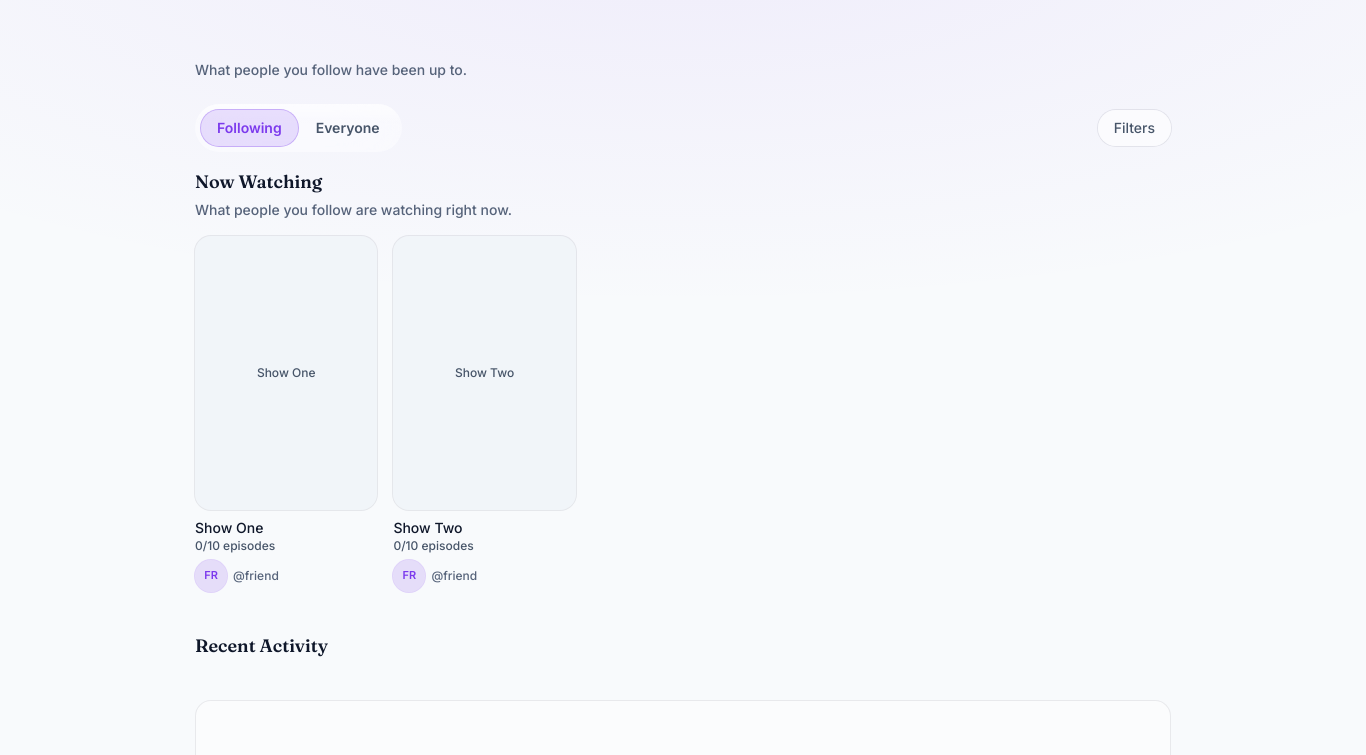
Activity › offers a genre section once show details resolve, and filters Now Watching (only) by the selected genre
Expected: the 1st text "Show Two" is shown, [455, 365, 514, 380]
Click the button "Filters".
click(1134, 128)  # box [1098, 110, 1171, 146]
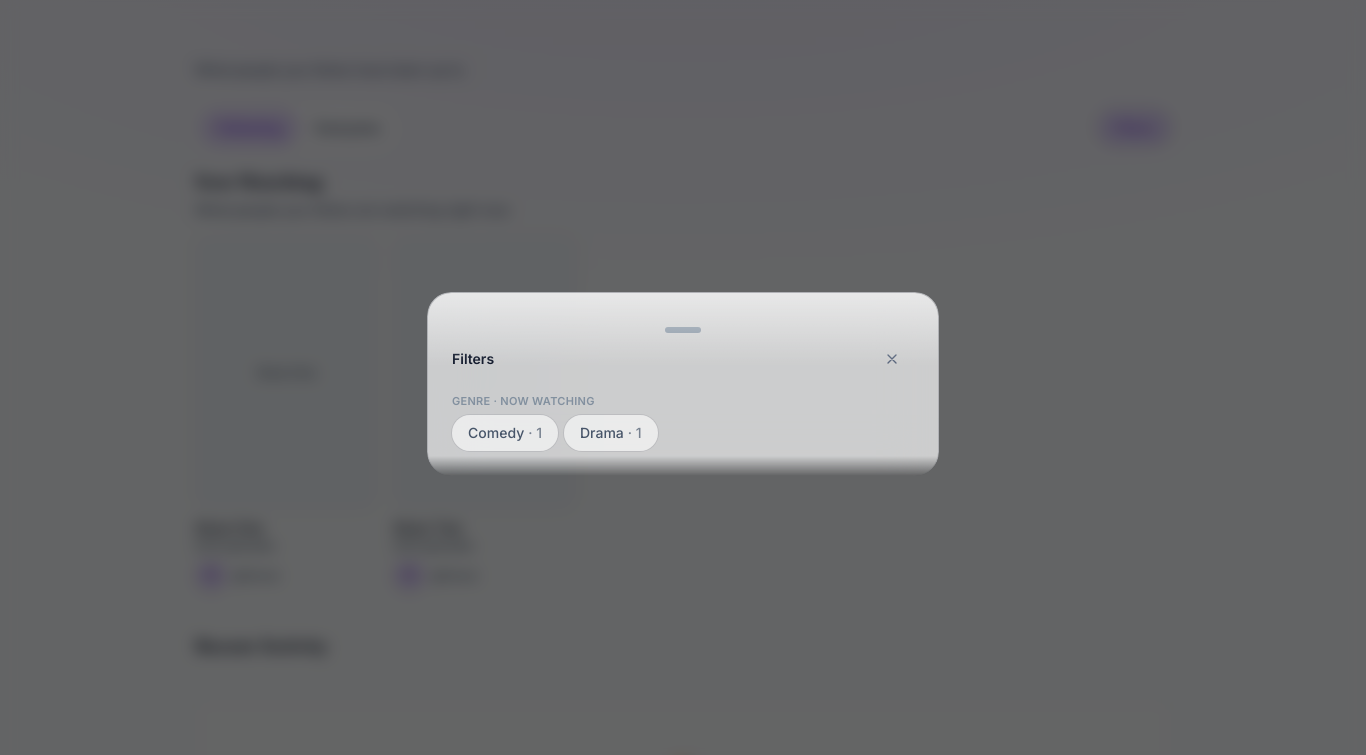
Expected: the text "Genre · Now Watching" is shown, [452, 394, 595, 408]
Click the button "Drama· 1".
click(611, 433)  # box [564, 415, 658, 451]
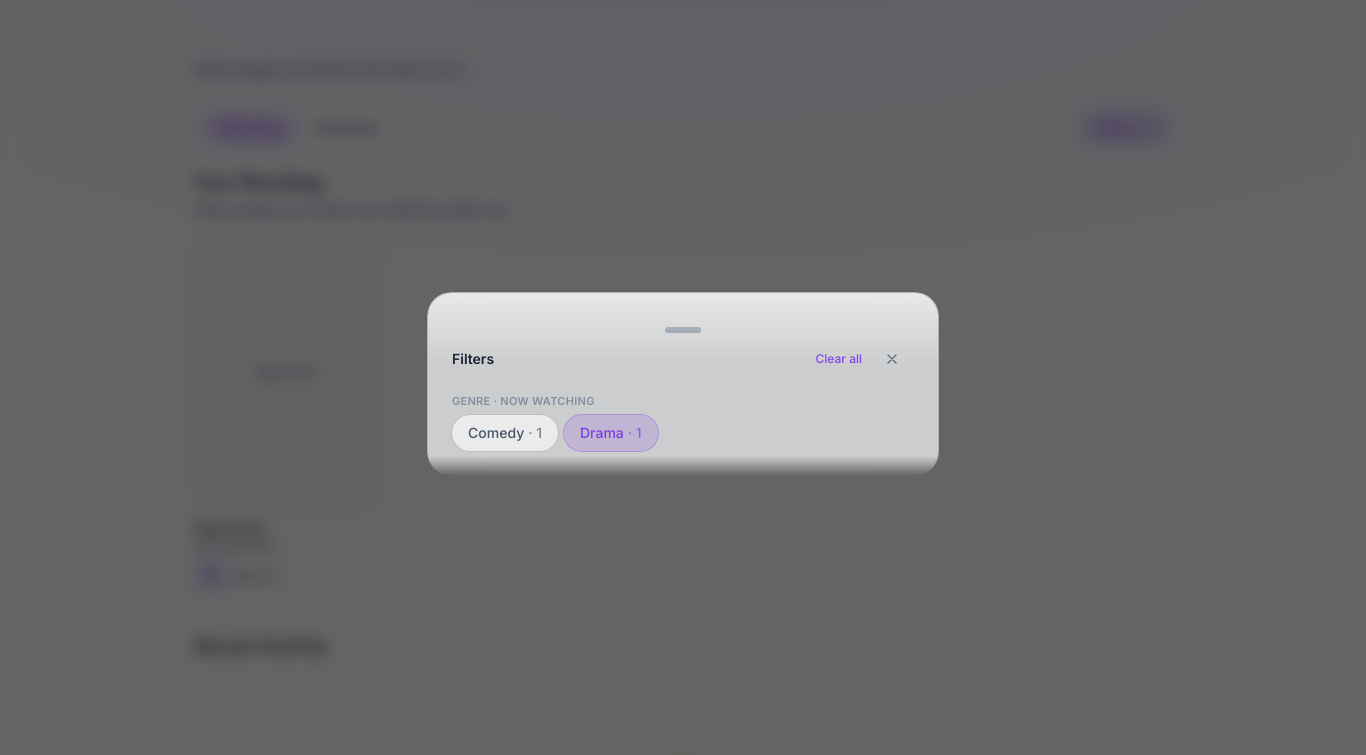
Expected: the link "Show Two" is gone
